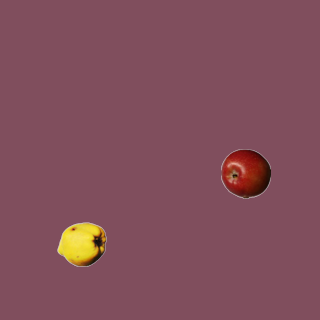Apple Braeburn: (220, 148, 270, 198)
Quince: (56, 219, 106, 269)
